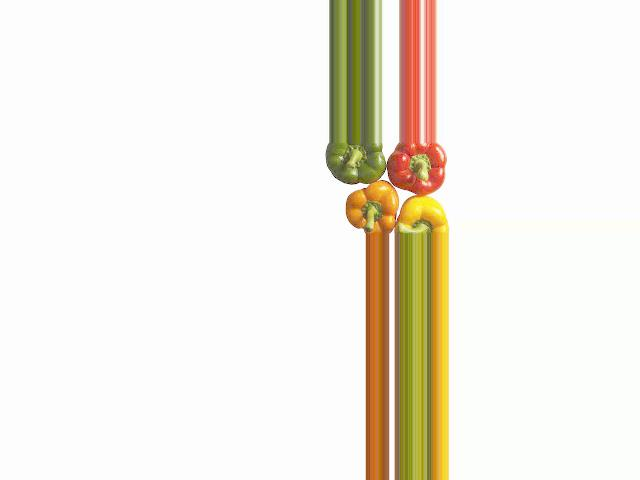bell_pepper: (391, 192, 450, 234)
